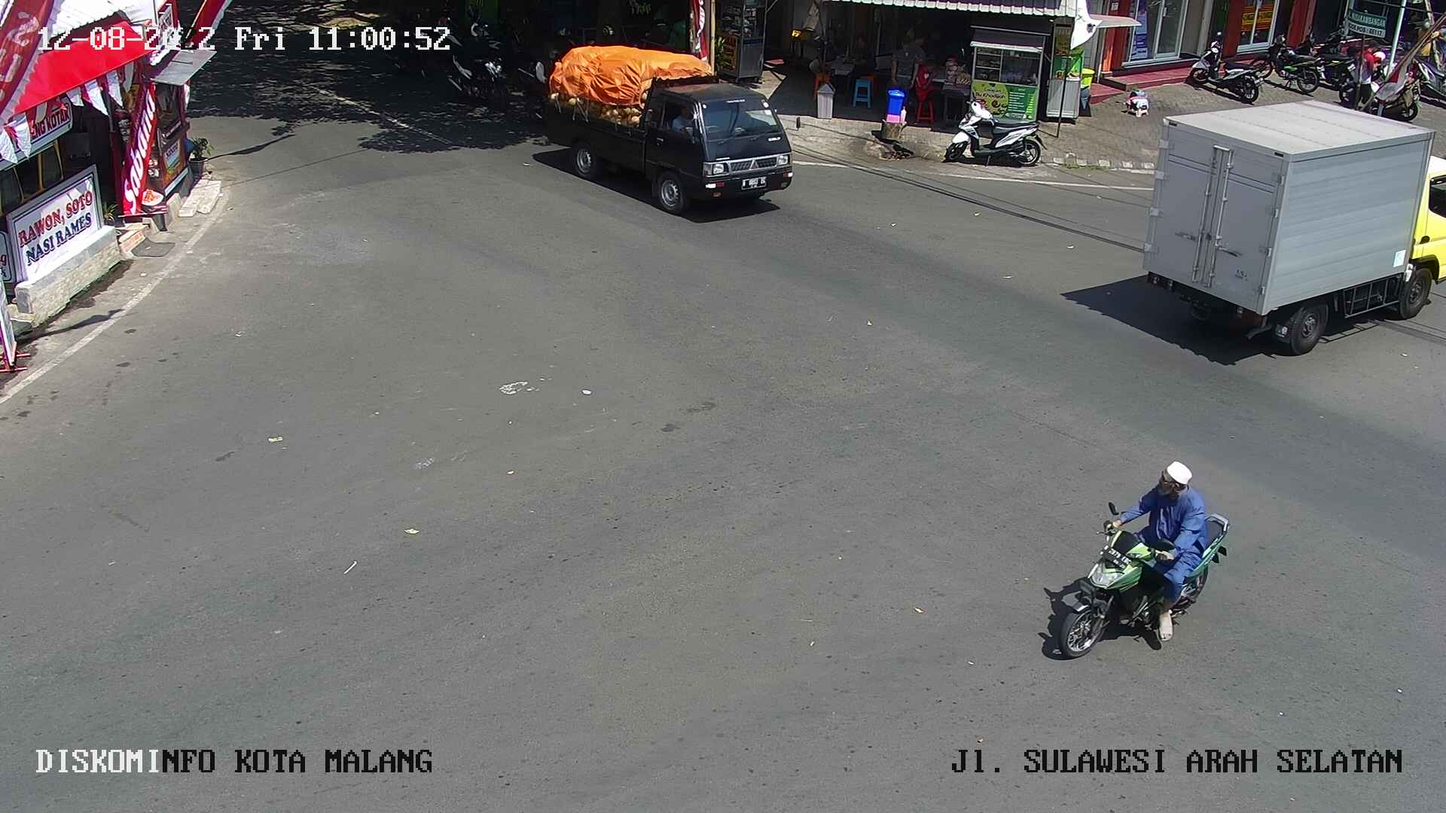without_helmet: (1034, 448, 1232, 661)
